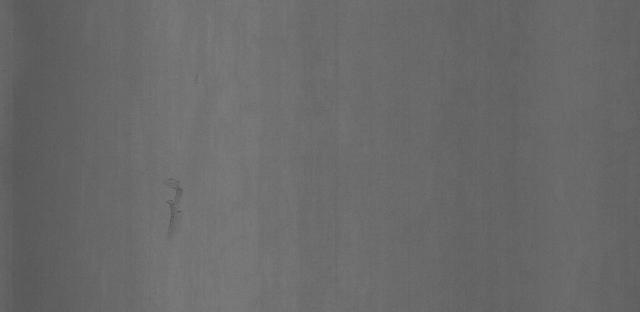water_spot: (155, 168, 202, 245)
